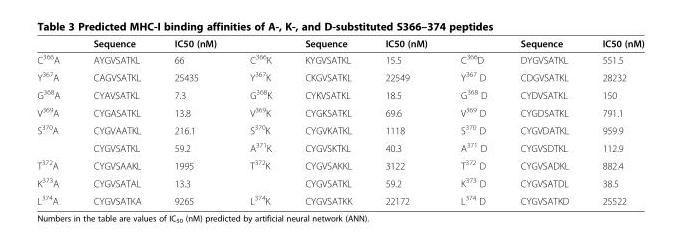table: (36, 37, 643, 206)
table column: (76, 37, 157, 206), (503, 37, 584, 206), (287, 37, 367, 206), (367, 37, 443, 206), (157, 37, 232, 206), (443, 37, 503, 206), (584, 37, 643, 206), (232, 37, 287, 206), (36, 37, 76, 206)
table column header: (36, 37, 643, 50)
table row: (36, 67, 643, 85), (36, 102, 643, 120), (36, 120, 643, 138), (36, 155, 643, 173), (36, 173, 643, 191), (36, 50, 643, 67), (36, 85, 643, 102), (36, 138, 643, 155), (36, 191, 643, 206), (36, 37, 643, 50)
table spanning cell: (36, 120, 76, 155)
